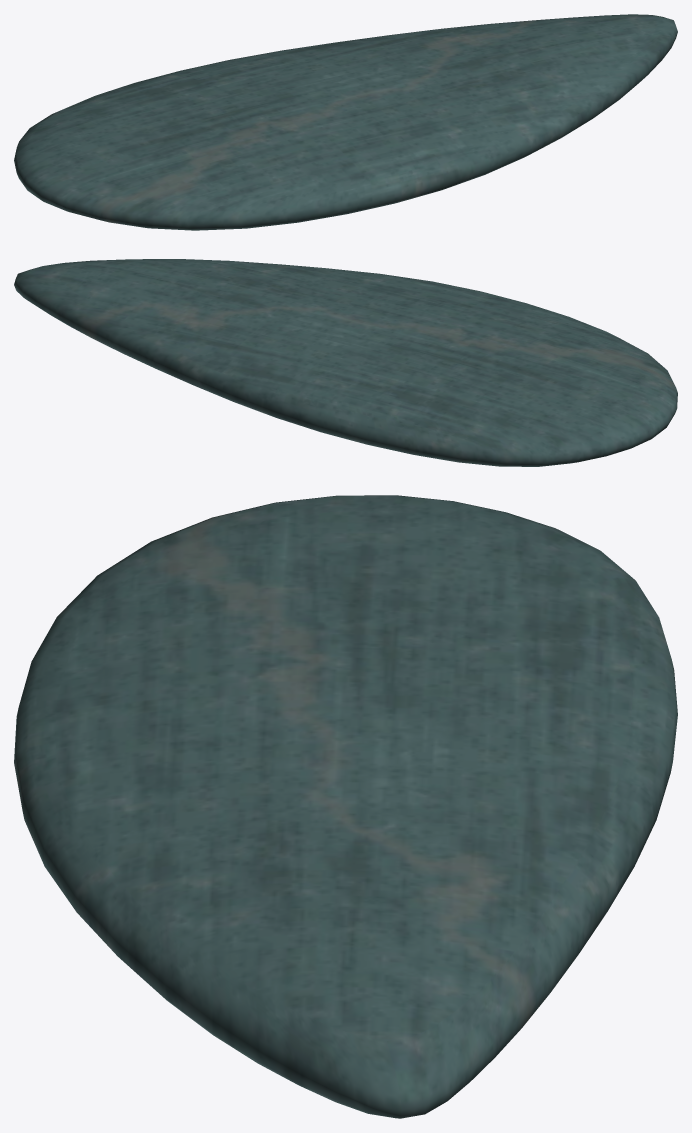
File: willow_leaf_05.glb
The picture shows the model from 3 angles, top to bottom: view 1: azimuth 30°, elevation 25°; view 2: azimuth 150°, elevation 25°; view 3: azimuth 270°, elevation 25°; orthographic projection. The views are drawn at different scales.
Parts seen in each view (by area): view 1: willow_leaf_05; view 2: willow_leaf_05; view 3: willow_leaf_05.
Part boxes in pixels (<box>): willow_leaf_05: <box>14,14,677,230</box>; willow_leaf_05: <box>14,259,677,466</box>; willow_leaf_05: <box>14,495,677,1118</box>.
Bounding box in the file's own units: 0.1001 × 0.0076 × 0.0464.
Materials: 1 (1 with a texture image).
